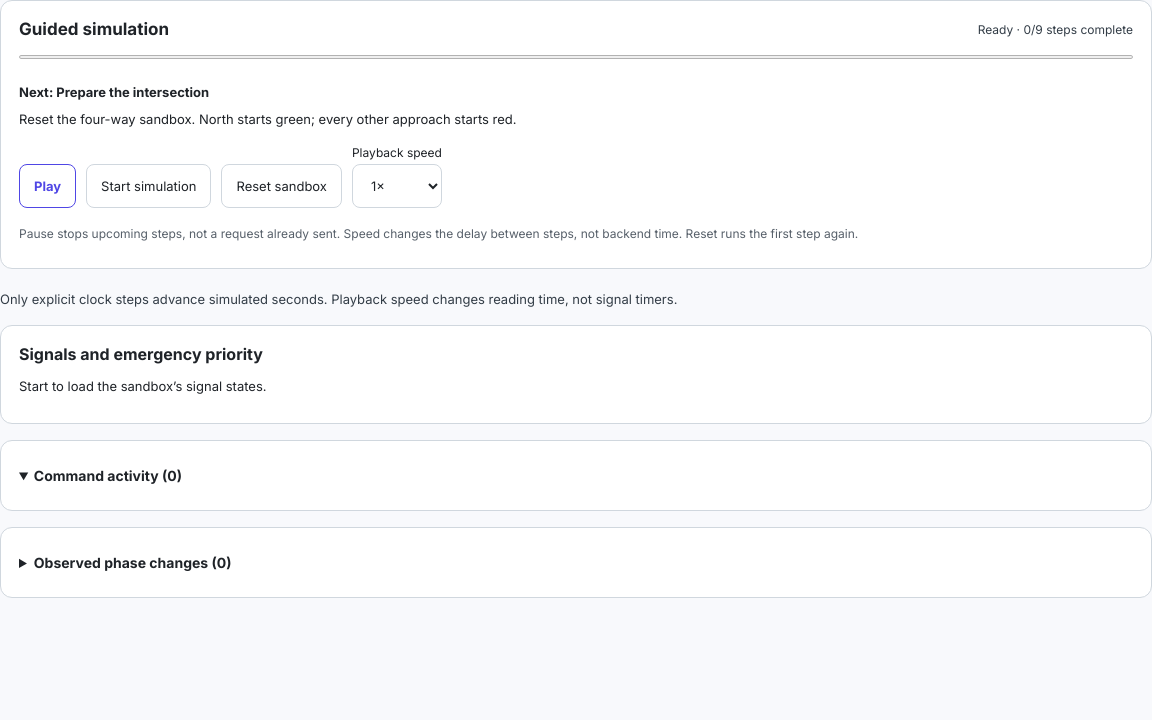
Test: Fleet simulation walkthroughs › does not offer to retry an ambiguous signal-clock mutation
This screenshot has width=1152, height=720.
What coordinates should you click on to do the following:
click the button "Start simulation"
I would click on:
 (149, 186)
Its box is [86,164,212,208].
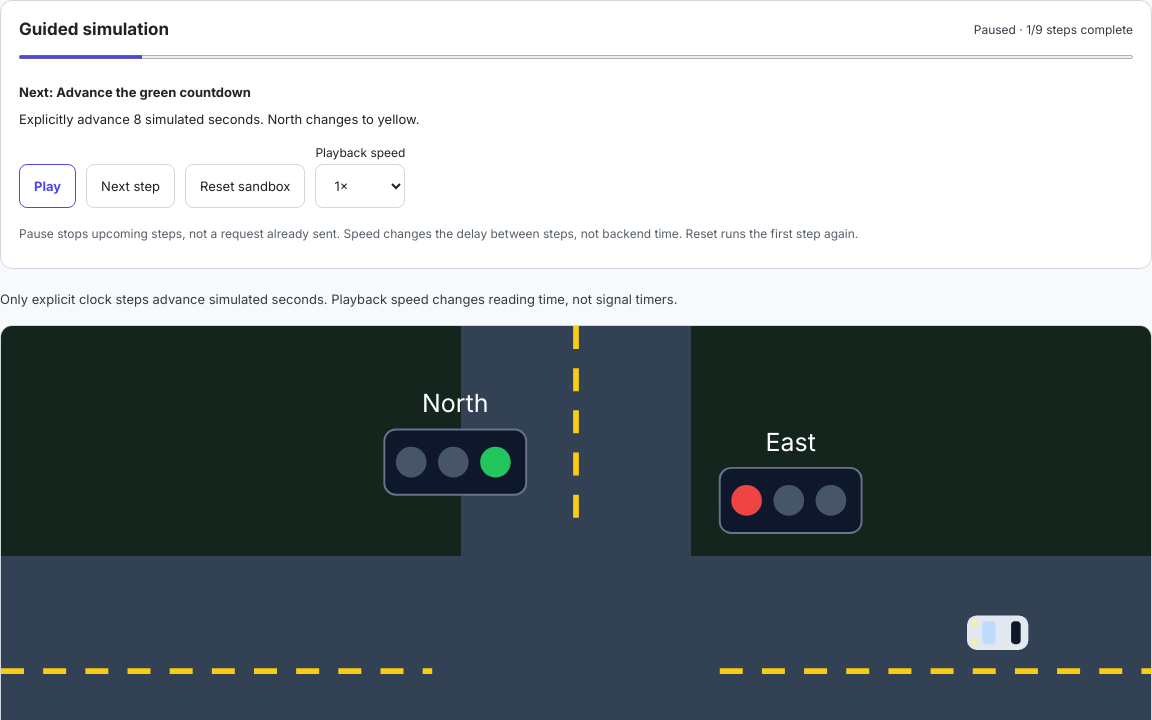
Expected: the progress indicator holds "1", [19,53,1133,61]
What coordinates should you click on to do the following:
click the button "Next step"
I would click on:
 (131, 186)
Its box is [86,164,175,208].
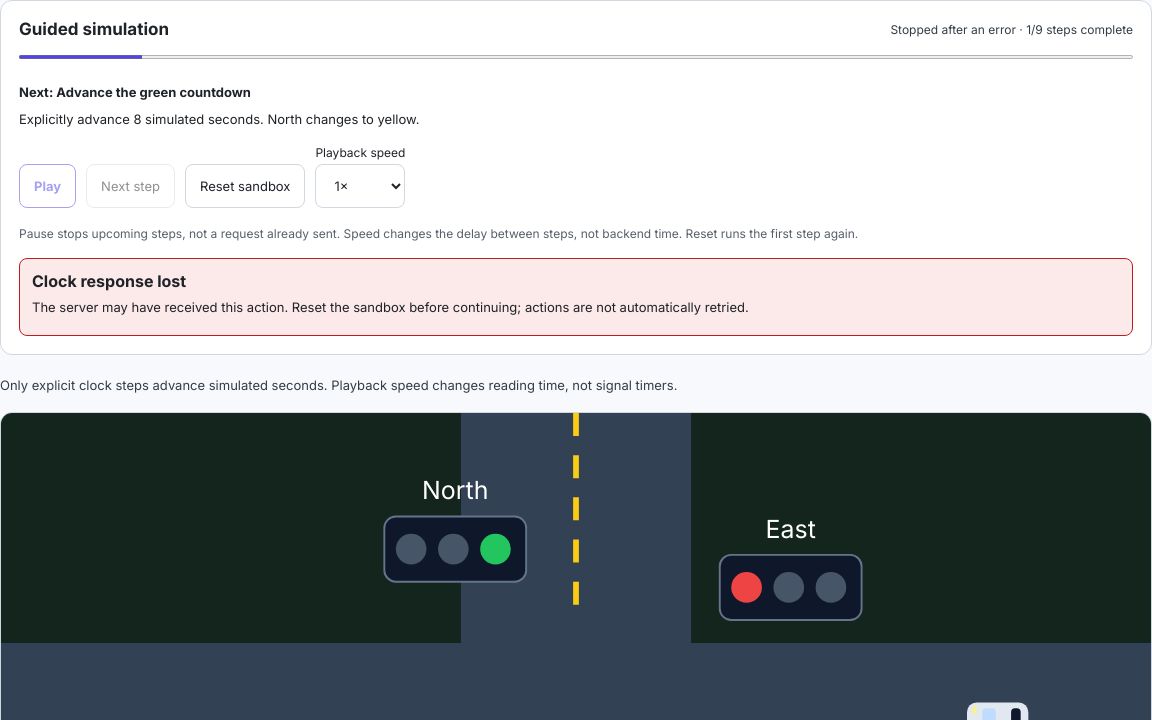
Expected: the progress indicator holds "1", [19,53,1133,61]
Result: the message that starts with "Clock response lost" is shown at [32,271,186,291]
What coordinates should you click on to do the following:
click the button "Reset sandbox"
I would click on:
 (245, 186)
Its box is [185,164,306,208].
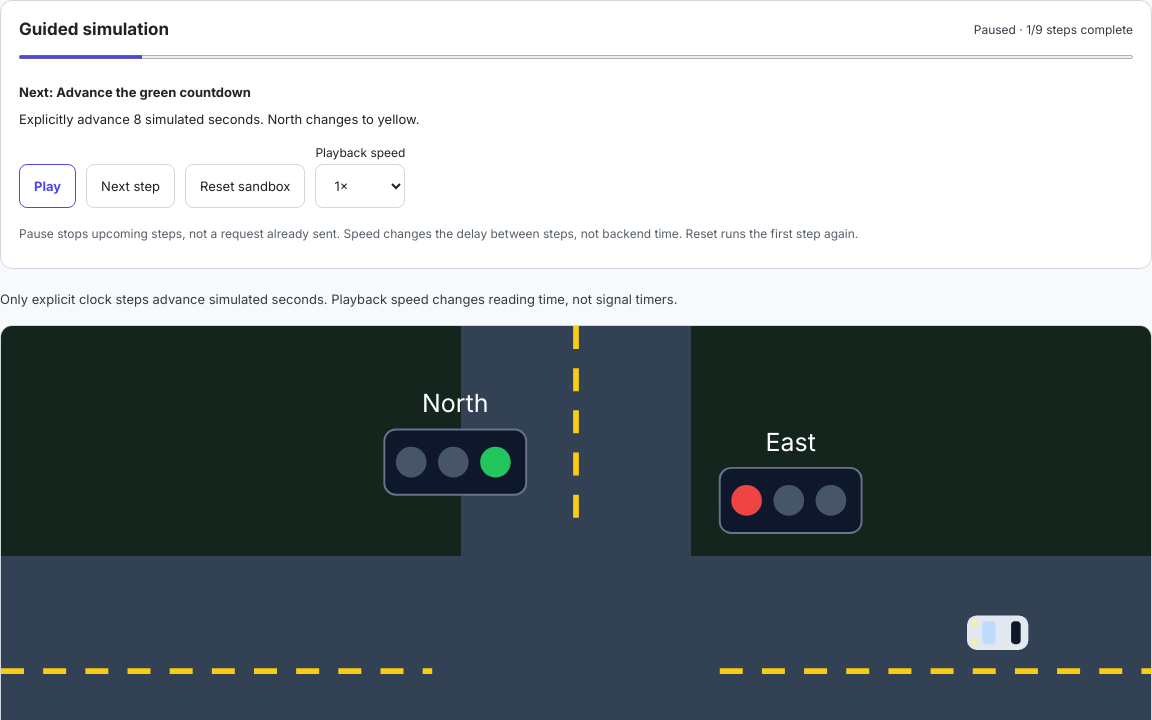
Result: the button "Next step" is enabled at [86,164,175,208]
